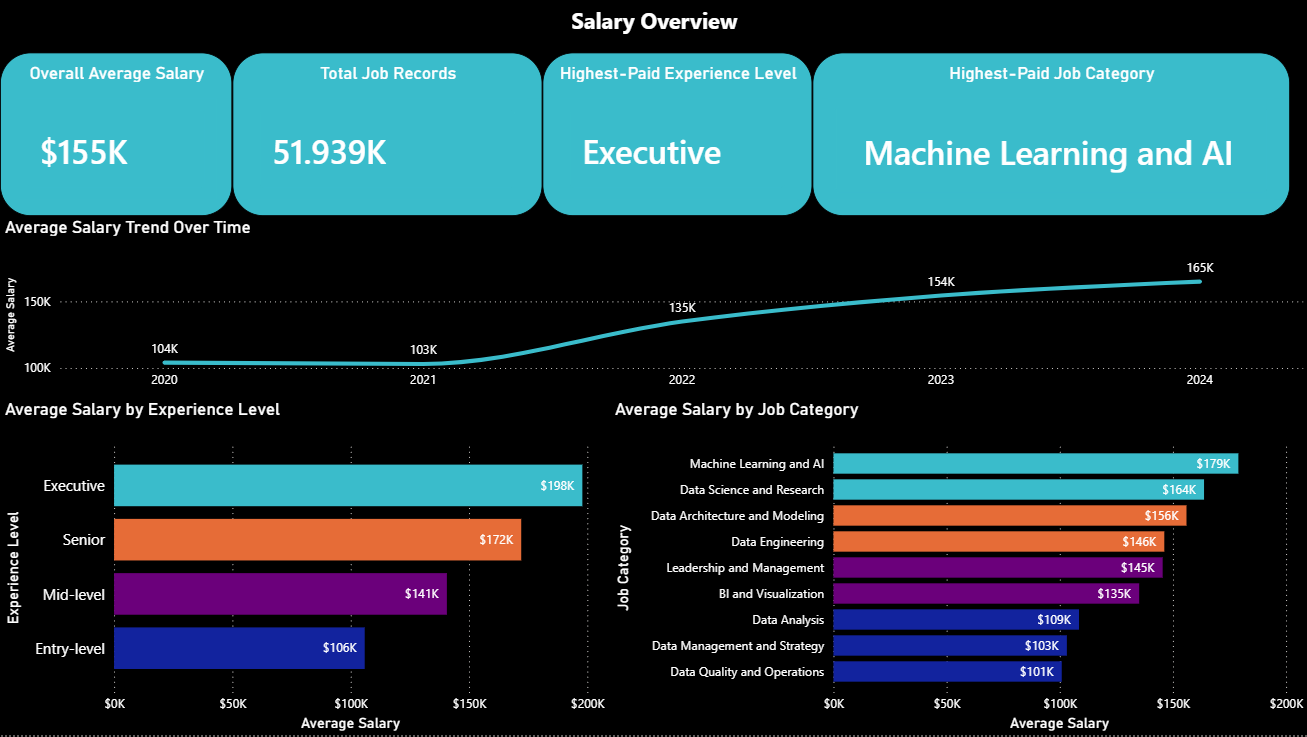

This screenshot's page, from the dashboard's own definition file:
{"tool":"powerbi","page":{"name":"Salary Overview","canvas":[1280,720],"ordinal":0},"visuals":[{"type":"lineChart","title":"Average Salary Trend Over Time","fields":{"Category":["salary_intelligence_project vw_salary_over_time.work_year"],"Y":["Sum(salary_intelligence_project vw_salary_over_time.avg_salary)"]},"box":[0,211.6,1280.3,178.4],"z":0},{"type":"cardVisual","title":"Overall Average Salary","fields":{"Data":["Avg(salary_intelligence_project combined_salary_data.salary_in_usd)"]},"box":[0,51.4,227.4,160.2],"z":1000},{"type":"cardVisual","title":"Total Job Records","fields":{"Data":["CountNonNull(salary_intelligence_project combined_salary_data.salary_in_usd)"]},"box":[227.4,51.4,303.3,160.2],"z":2000},{"type":"cardVisual","title":"Highest-Paid Experience Level","fields":{"Data":["salary_intelligence_project combined_salary_data.Top Experience Level"]},"box":[530.7,51.4,264.1,160.2],"z":3000},{"type":"cardVisual","title":"Highest-Paid Job Category","fields":{"Data":["salary_intelligence_project combined_salary_data.Top Job Category"]},"box":[794.8,51.4,467.1,160.2],"z":4000},{"type":"barChart","title":"Average Salary by Experience Level","fields":{"Category":["salary_intelligence_project vw_salary_by_experience.experience_level"],"Y":["Sum(salary_intelligence_project vw_salary_by_experience.avg_salary)"]},"box":[0,390.1,596.7,330.2],"z":5000},{"type":"barChart","title":"Average Salary by Job Category","fields":{"Category":["salary_intelligence_project vw_salary_by_job_category.job_category"],"Y":["Sum(salary_intelligence_project vw_salary_by_job_category.avg_salary)"]},"box":[596.7,390.1,683.6,330.2],"z":6000},{"type":"textbox","box":[0,0,1280.3,51.4],"z":7000}]}

Visuals, with their boxes in screenshot pixels (x1, y1, x2, y2), scaled from the page's 1280x720 canvas onto the 1307x737 screenshot:
"Average Salary Trend Over Time" lineChart: pyautogui.locateOnScreen(0, 217, 1306, 399)
"Overall Average Salary" cardVisual: pyautogui.locateOnScreen(0, 53, 232, 217)
"Total Job Records" cardVisual: pyautogui.locateOnScreen(232, 53, 542, 217)
"Highest-Paid Experience Level" cardVisual: pyautogui.locateOnScreen(542, 53, 812, 217)
"Highest-Paid Job Category" cardVisual: pyautogui.locateOnScreen(812, 53, 1289, 217)
"Average Salary by Experience Level" barChart: pyautogui.locateOnScreen(0, 399, 609, 736)
"Average Salary by Job Category" barChart: pyautogui.locateOnScreen(609, 399, 1306, 736)
textbox: pyautogui.locateOnScreen(0, 0, 1306, 53)
